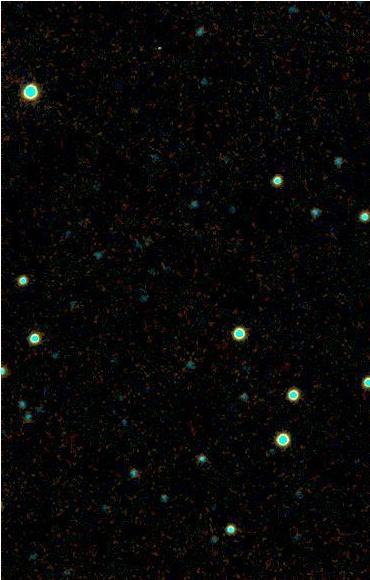star: (143, 31, 173, 61)
